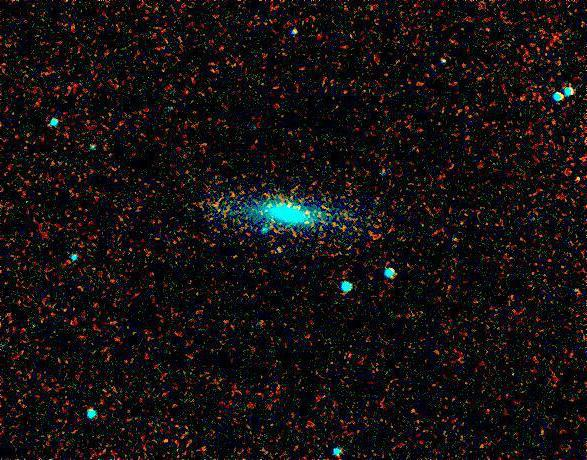star: (292, 198, 322, 228)
